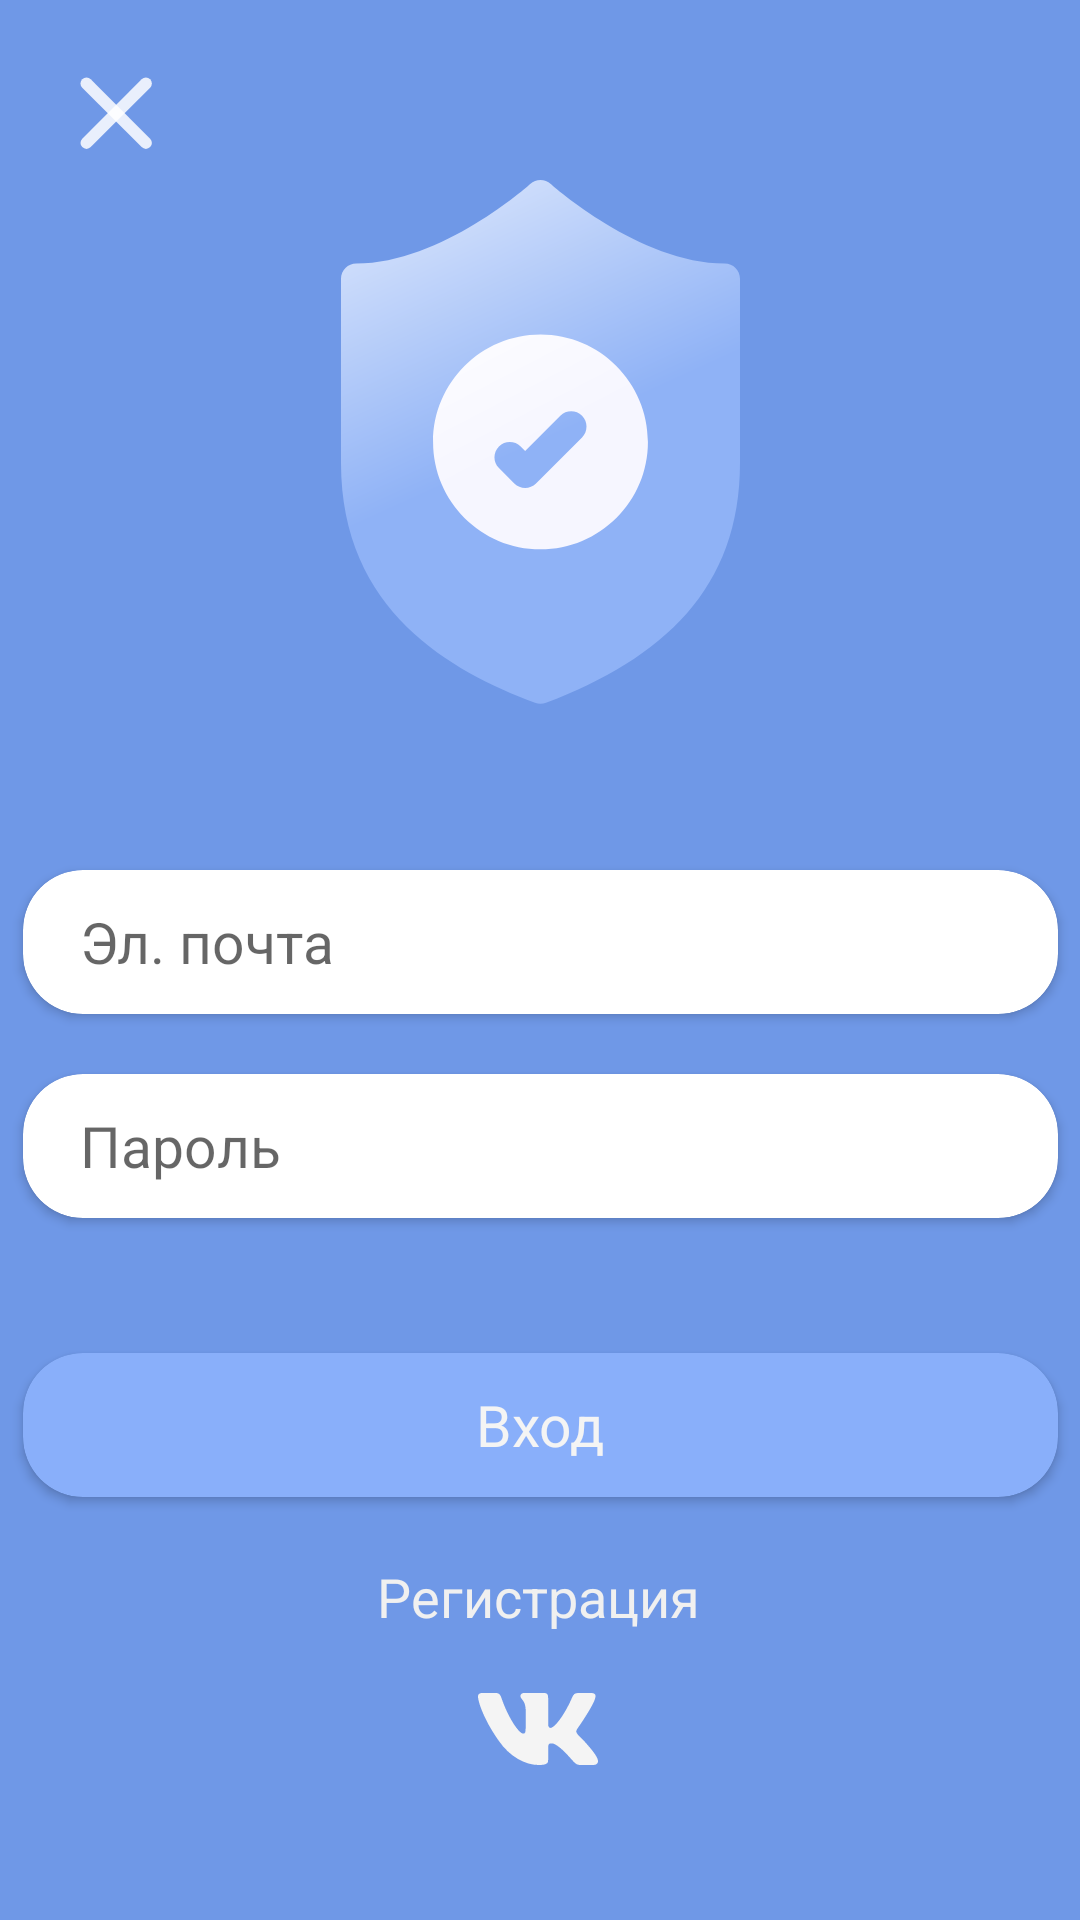

Point at icon controls on the screen. Image size 1080x1920, points as [x,y].
exitbutton: [116,113]
